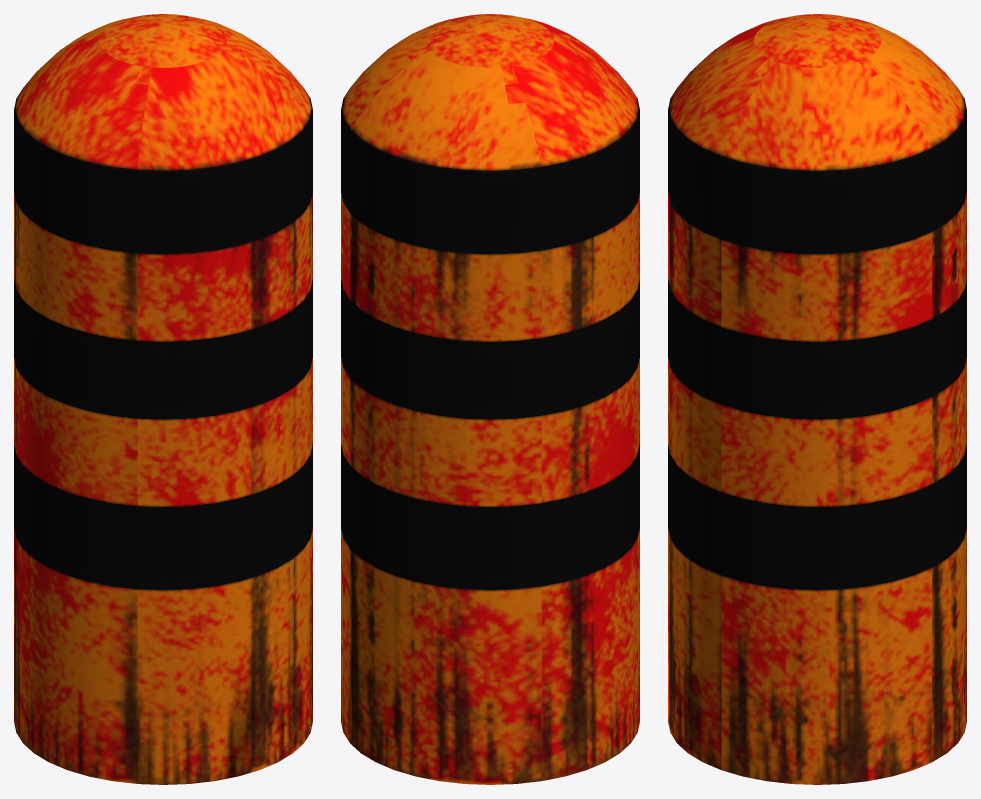
File: street part 4.fbx
The picture shows the model from 3 angles, left to right: view 1: azimuth 30°, elevation 25°; view 2: azimuth 150°, elevation 25°; view 3: azimuth 270°, elevation 25°; orthographic projection.
Visible parts, largest first — view 1: Object_41; view 2: Object_41; view 3: Object_41.
Boxes of the visible parts, x1=… form: Object_41: x1=14, y1=14, x2=312, y2=784; Object_41: x1=341, y1=14, x2=639, y2=784; Object_41: x1=668, y1=14, x2=966, y2=784.
Size of the model in its own units: 26.02 by 66.58 by 26.02.
1 material, 1 textured.
